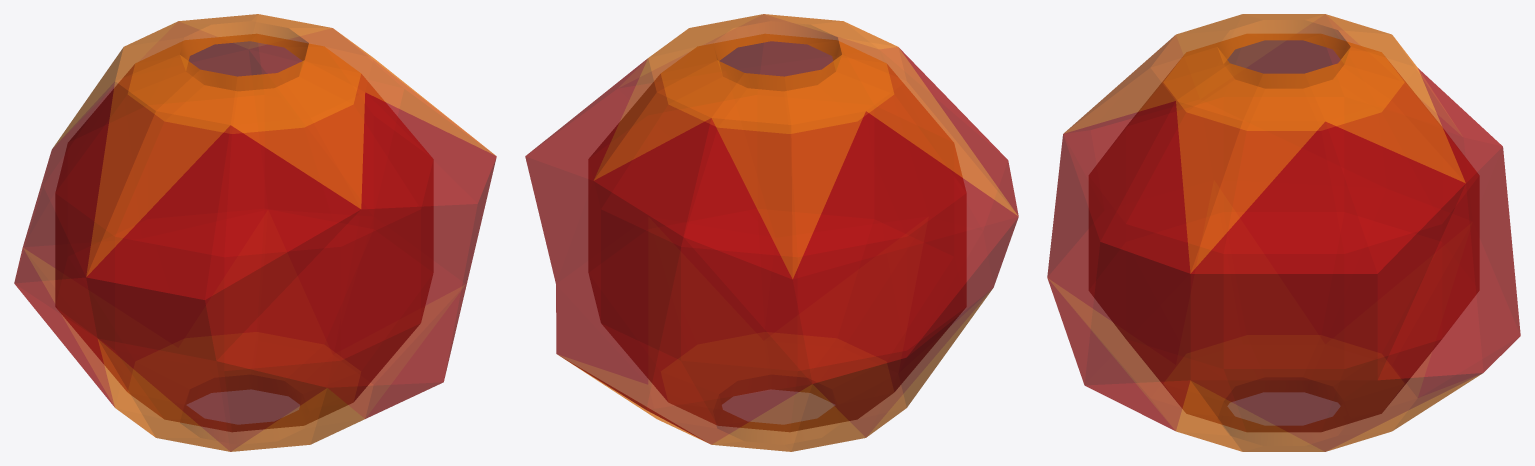
Rendered from Explosao.FBX.
3 views of the same model, side by side, from view 1: azimuth 30°, elevation 25°; view 2: azimuth 150°, elevation 25°; view 3: azimuth 270°, elevation 25° (orthographic).
Parts seen in each view (by area): view 1: Explosao; view 2: Explosao; view 3: Explosao.
Part boxes in pixels (box(x1,y1,x2,y2)): Explosao: box(14, 14, 496, 451); Explosao: box(525, 14, 1018, 451); Explosao: box(1047, 14, 1520, 451).
Size of the model in its own units: 23.06 by 19.99 by 23.03.
